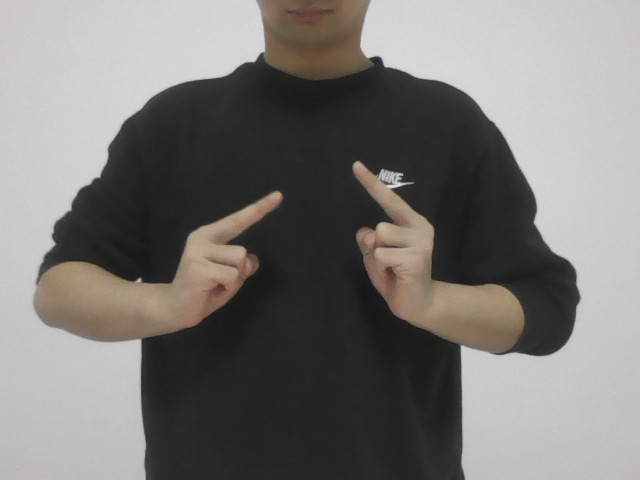know: (158, 162, 442, 346)
